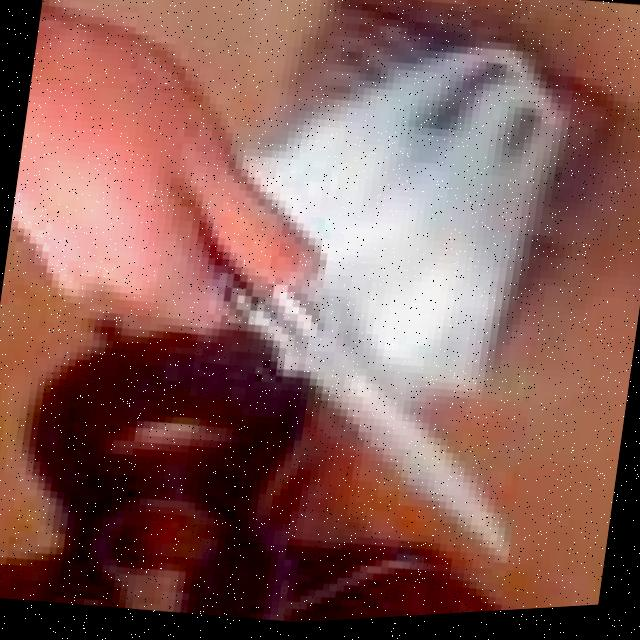knife: (191, 257, 547, 591)
